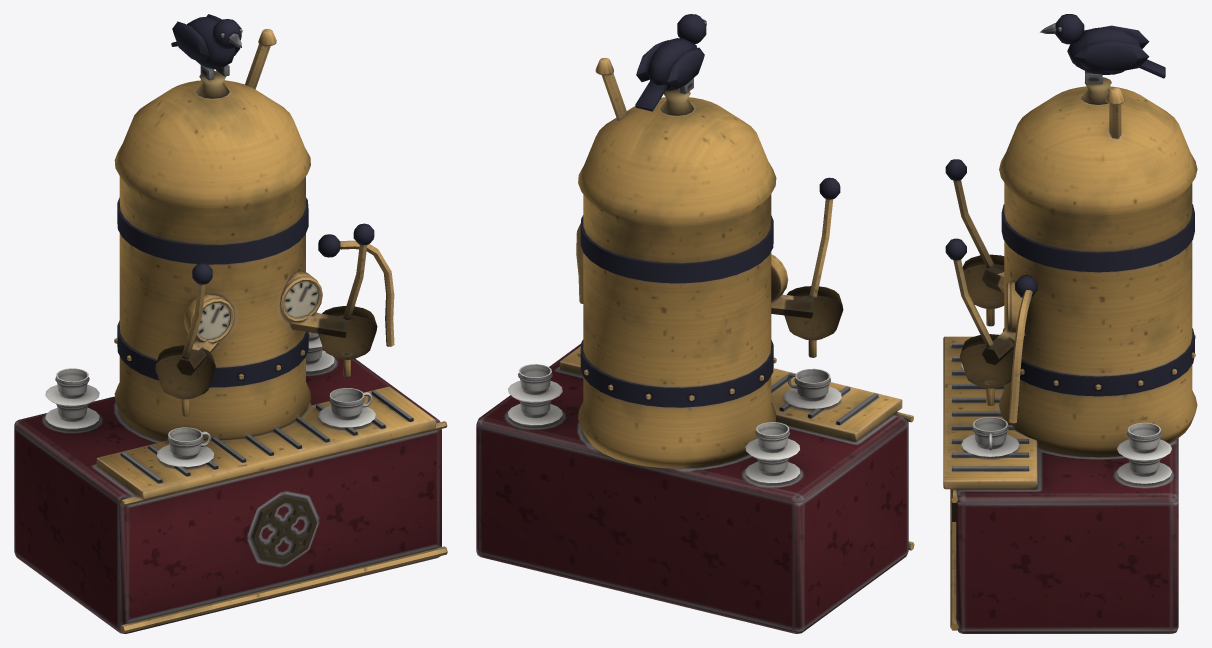
The model's file is CoffeeMachine.fbx.
3 views of the same model, side by side, from view 1: azimuth 30°, elevation 25°; view 2: azimuth 150°, elevation 25°; view 3: azimuth 270°, elevation 25° (orthographic).
Visible parts, largest first — view 1: CoffeeMachine; view 2: CoffeeMachine; view 3: CoffeeMachine.
Boxes of the visible parts, <box> form: CoffeeMachine: <box>14,14,447,633</box>; CoffeeMachine: <box>476,14,914,633</box>; CoffeeMachine: <box>943,14,1197,633</box>.
Size of the model in its own units: 220 by 350 by 149.
